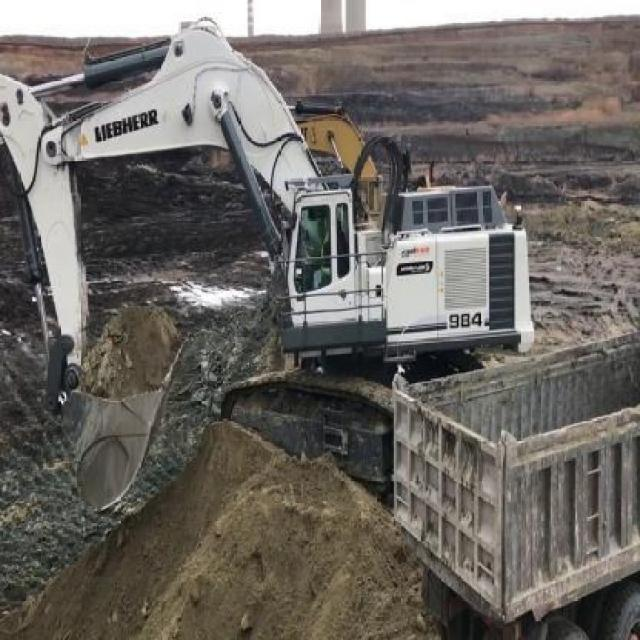Dump Truck: (388, 333, 640, 639)
Excavator: (0, 9, 537, 523)
